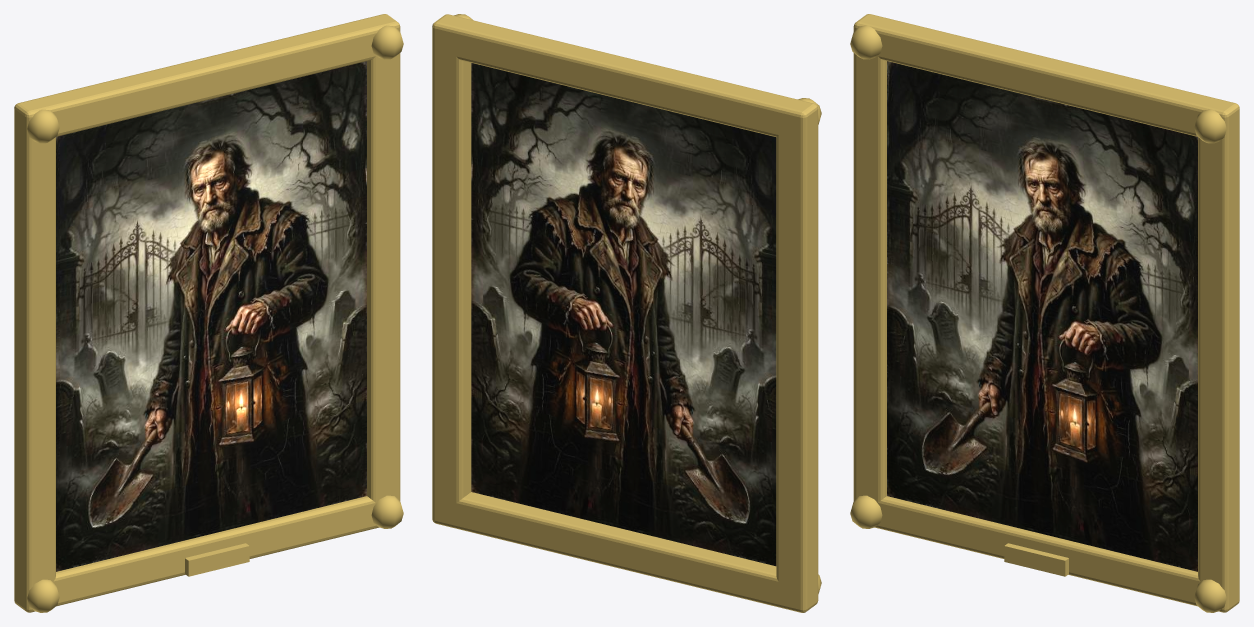
Rendered from art_gravekeeper.glb.
The picture shows the model from 3 angles, left to right: view 1: azimuth 30°, elevation 25°; view 2: azimuth 150°, elevation 25°; view 3: azimuth 330°, elevation 25°; orthographic projection.
Visible parts, largest first — view 1: GD_art_gravekeeper__m0, GD_art_gravekeeper__m1; view 2: GD_art_gravekeeper__m0, GD_art_gravekeeper__m1; view 3: GD_art_gravekeeper__m0, GD_art_gravekeeper__m1.
Boxes of the visible parts, box(x1,y1,x2,y2) form: GD_art_gravekeeper__m0: box(56, 61, 366, 571); GD_art_gravekeeper__m1: box(14, 14, 403, 612); GD_art_gravekeeper__m0: box(471, 63, 776, 566); GD_art_gravekeeper__m1: box(432, 14, 821, 612); GD_art_gravekeeper__m0: box(887, 61, 1197, 571); GD_art_gravekeeper__m1: box(850, 14, 1239, 612).
Bounding box in the file's own units: 0.86 × 1.1 × 0.095.
Materials: 2 (1 with a texture image).
